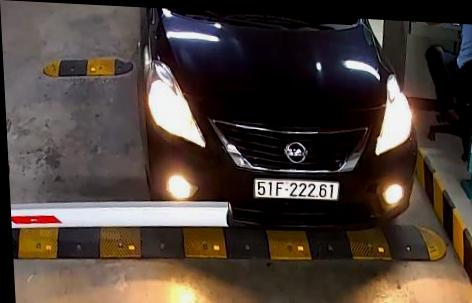License_Plate: (252, 175, 338, 206)
